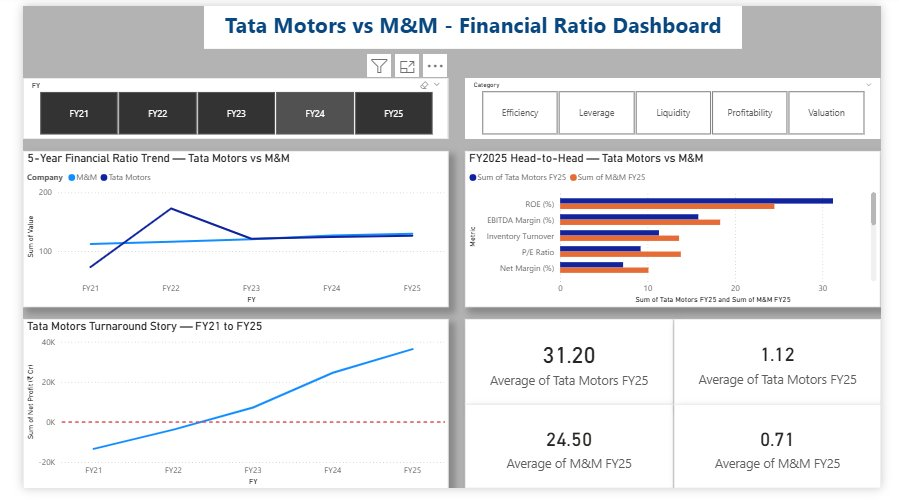

What the dashboard file says about the page in this screenshot:
{"tool":"powerbi","page":{"name":"Page 1","canvas":[1280,720],"ordinal":0},"visuals":[{"type":"lineChart","title":"5-Year Financial Ratio Trend — Tata Motors vs M&M","fields":{"Category":["Ratios.FY"],"Y":["Sum(Ratios.Value)"],"Series":["Ratios.Company"]},"box":[0,216.7,635,233.5],"z":0},{"type":"slicer","fields":{"Values":["Ratios.Category"]},"box":[660.2,107.5,619.8,90.7],"z":1000},{"type":"clusteredBarChart","title":"FY2025 Head-to-Head — Tata Motors vs M&M","fields":{"Category":["FY2025_Comparison.Metric"],"Y":["Sum(FY2025_Comparison.Tata Motors FY25)","Sum(FY2025_Comparison.M&M FY25)"]},"box":[660.2,216.7,619.8,233.5],"z":2000},{"type":"lineChart","title":"Tata Motors Turnaround Story — FY21 to FY25","fields":{"Category":["Tata_Turnaround.FY"],"Y":["Sum(Tata_Turnaround.Net Profit (₹ Cr))"]},"box":[0,467,635,253.6],"z":3000},{"type":"card","fields":{"Values":["Avg(FY2025_Comparison.Tata Motors FY25)"]},"box":[660.2,467,310.8,127.7],"z":4000},{"type":"card","fields":{"Values":["Avg(FY2025_Comparison.M&M FY25)"]},"box":[660.2,594.6,310.8,126],"z":5000},{"type":"card","fields":{"Values":["Avg(FY2025_Comparison.Tata Motors FY25)"]},"box":[970.9,467,309.1,127.7],"z":6000},{"type":"card","fields":{"Values":["Avg(FY2025_Comparison.M&M FY25)"]},"box":[970.9,594.6,309.1,126],"z":7000},{"type":"slicer","fields":{"Values":["Ratios.FY"]},"box":[0,107.5,635,90.7],"z":8000},{"type":"textbox","box":[270.4,0,802.9,63.8],"z":9000}]}

Visuals, with their boxes in screenshot pixels (x1, y1, x2, y2), scaled from the page's 1280x720 canvas onto the 899x500 screenshot:
"5-Year Financial Ratio Trend — Tata Motors vs M&M" lineChart: bbox=(0, 150, 446, 313)
slicer - Ratios.Category: bbox=(464, 75, 898, 138)
"FY2025 Head-to-Head — Tata Motors vs M&M" clusteredBarChart: bbox=(464, 150, 898, 313)
"Tata Motors Turnaround Story — FY21 to FY25" lineChart: bbox=(0, 324, 446, 499)
card - Avg(FY2025_Comparison.Tata Motors FY25): bbox=(464, 324, 682, 413)
card - Avg(FY2025_Comparison.M&M FY25): bbox=(464, 413, 682, 499)
card - Avg(FY2025_Comparison.Tata Motors FY25): bbox=(682, 324, 898, 413)
card - Avg(FY2025_Comparison.M&M FY25): bbox=(682, 413, 898, 499)
slicer - Ratios.FY: bbox=(0, 75, 446, 138)
textbox: bbox=(190, 0, 754, 44)
